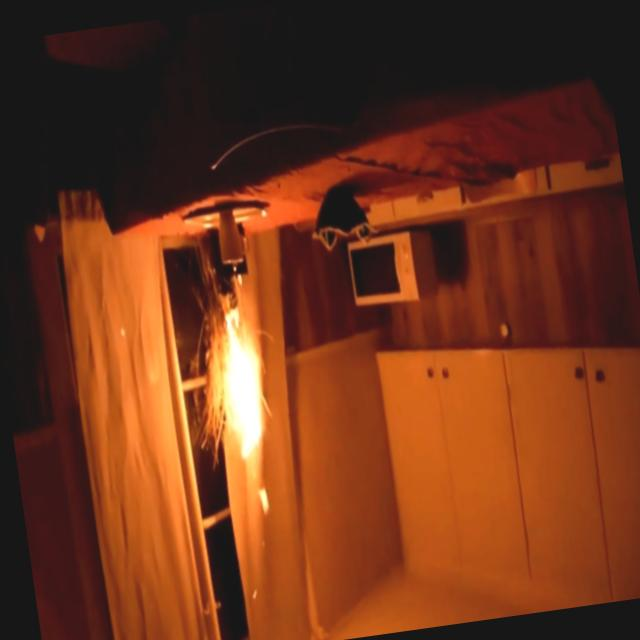fire: (193, 268, 292, 530)
